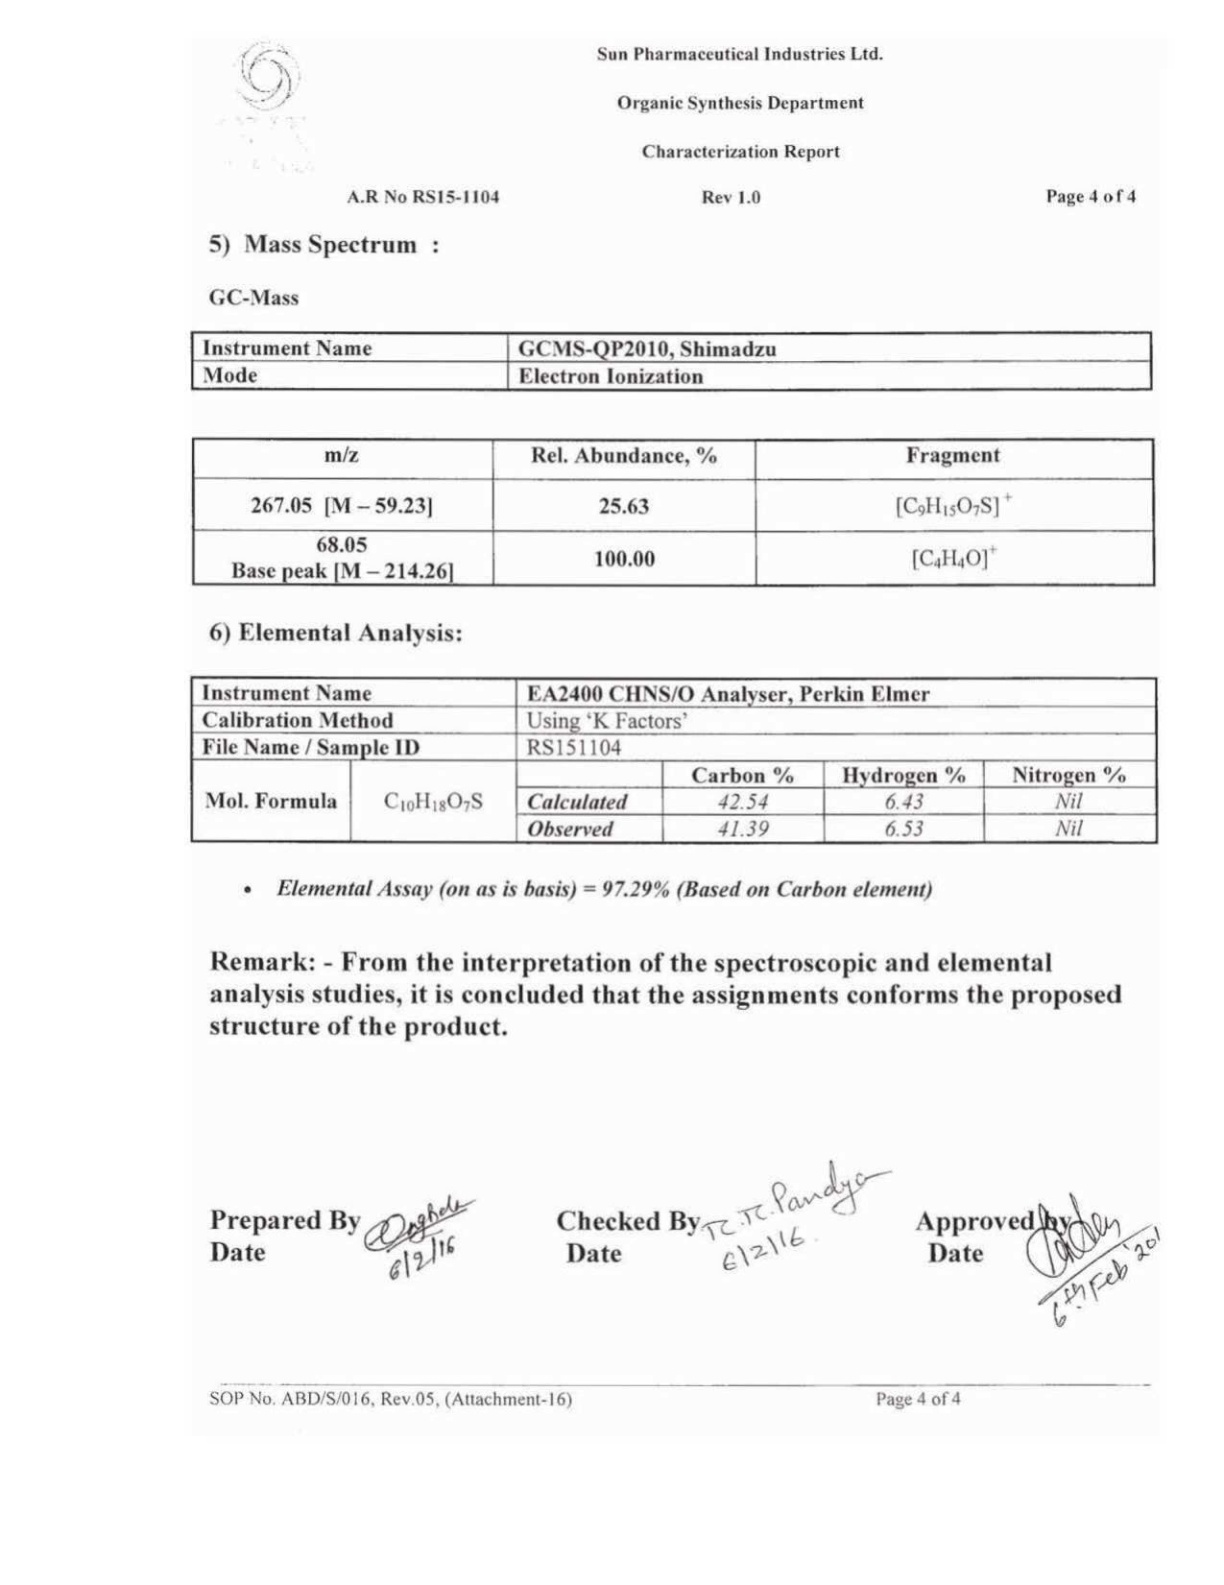full_lined: (189, 436, 1156, 587), (189, 330, 1153, 391)
merged_cells: (188, 674, 1158, 845)
